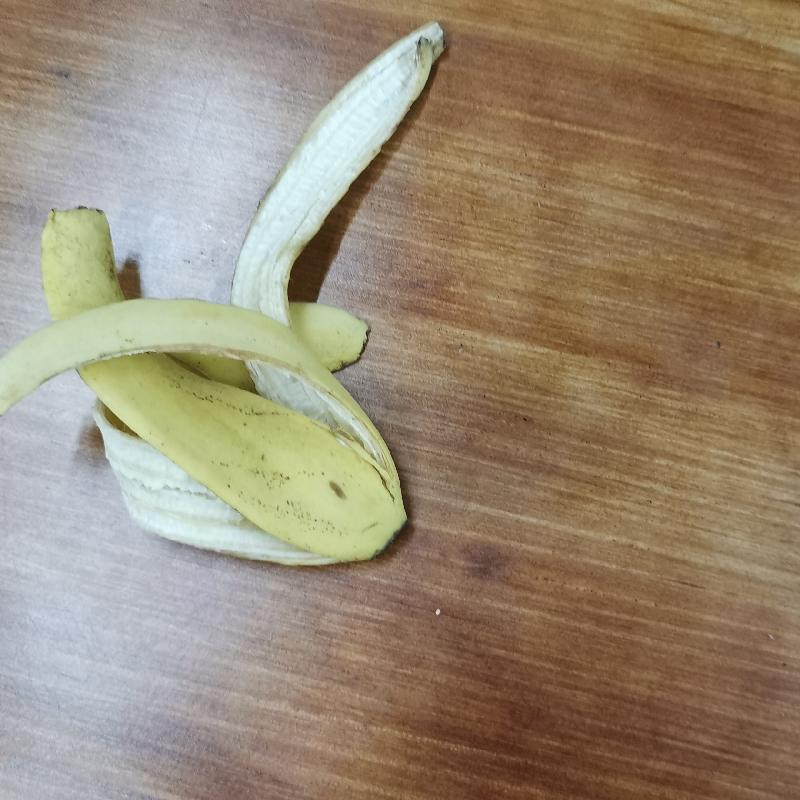bananas: (0, 15, 446, 581)
